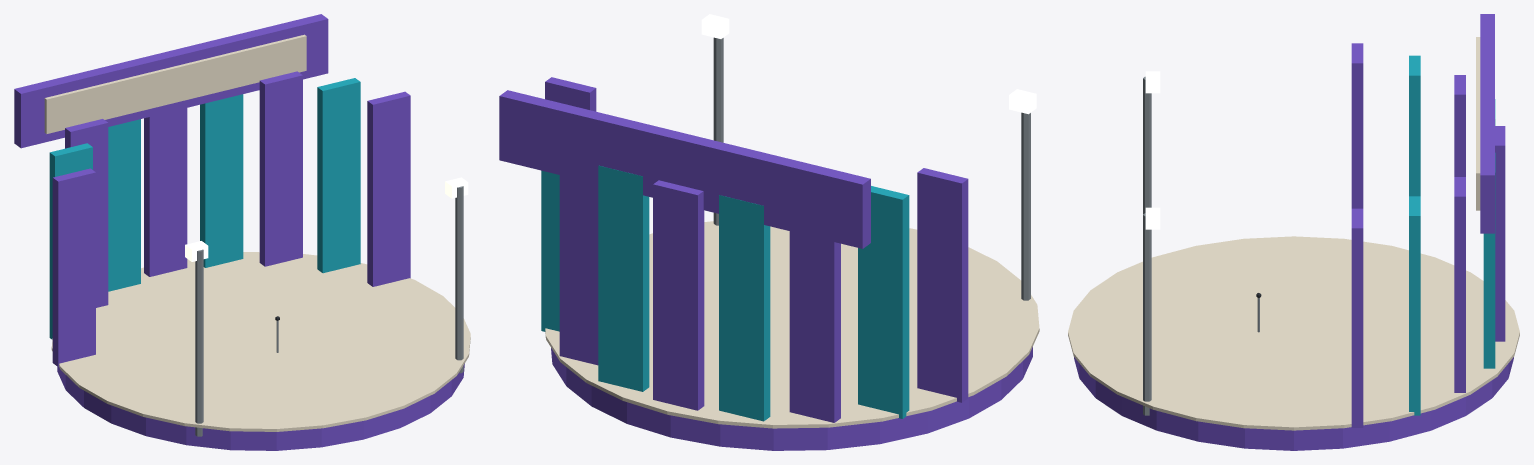
The model's file is stage.glb.
3 renders of one model, left to right at view 1: azimuth 30°, elevation 25°; view 2: azimuth 150°, elevation 25°; view 3: azimuth 270°, elevation 25°, orthographic. The views are drawn at different scales.
Visible parts, largest first — view 1: Cylinder; view 2: Cylinder; view 3: Cylinder.
Boxes of the visible parts, x1,y1,x2,y2 form: Cylinder: (14, 14, 470, 450); Cylinder: (499, 14, 1039, 450); Cylinder: (1068, 14, 1519, 450).
Size of the model in its own units: 15.4 by 9.9 by 15.4.
